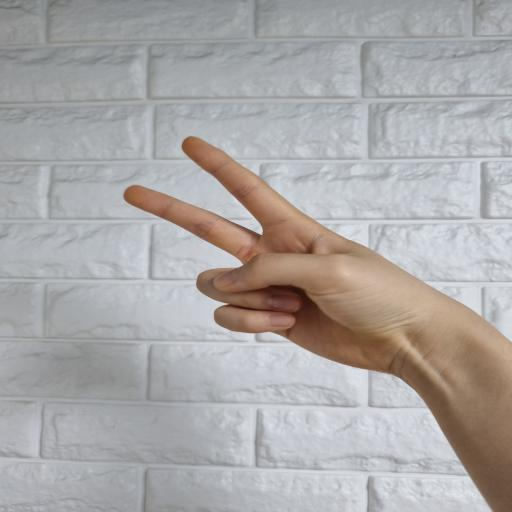Scissors: (119, 130, 462, 381)
